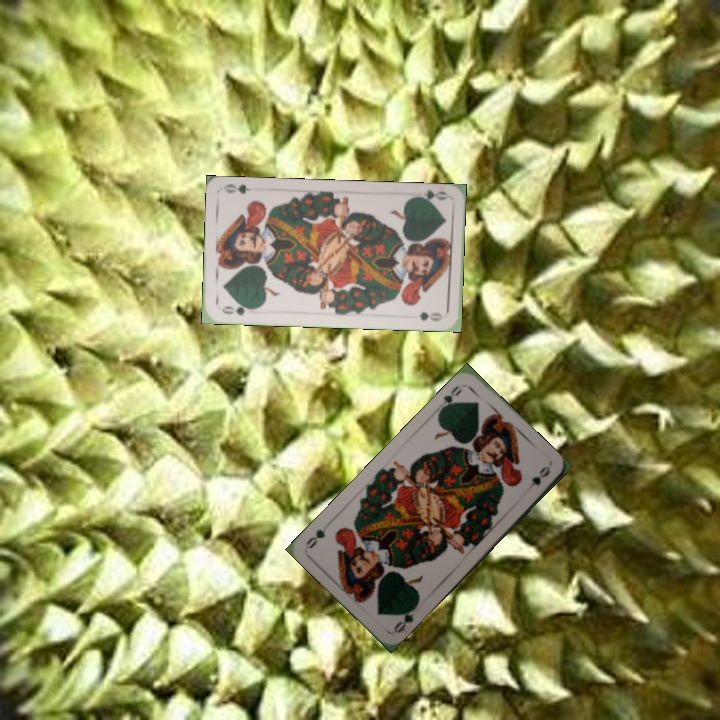GO: (390, 600, 420, 635), (436, 381, 464, 414), (409, 186, 450, 206), (218, 300, 257, 318)
